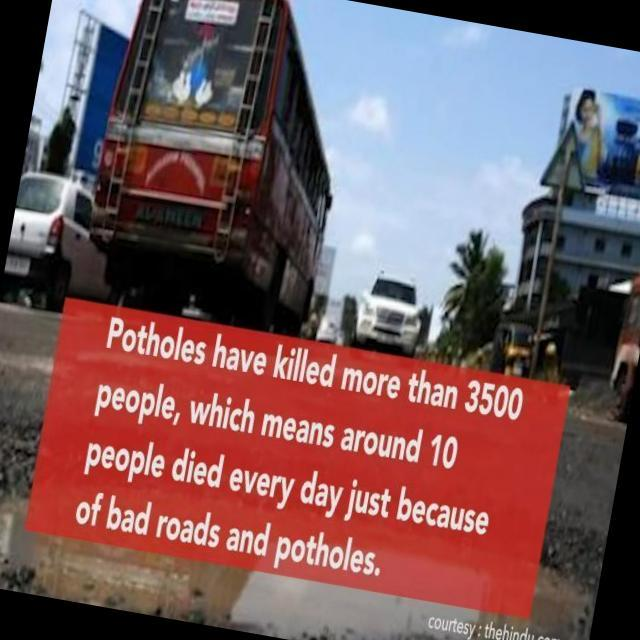Burst: (0, 477, 596, 640)
